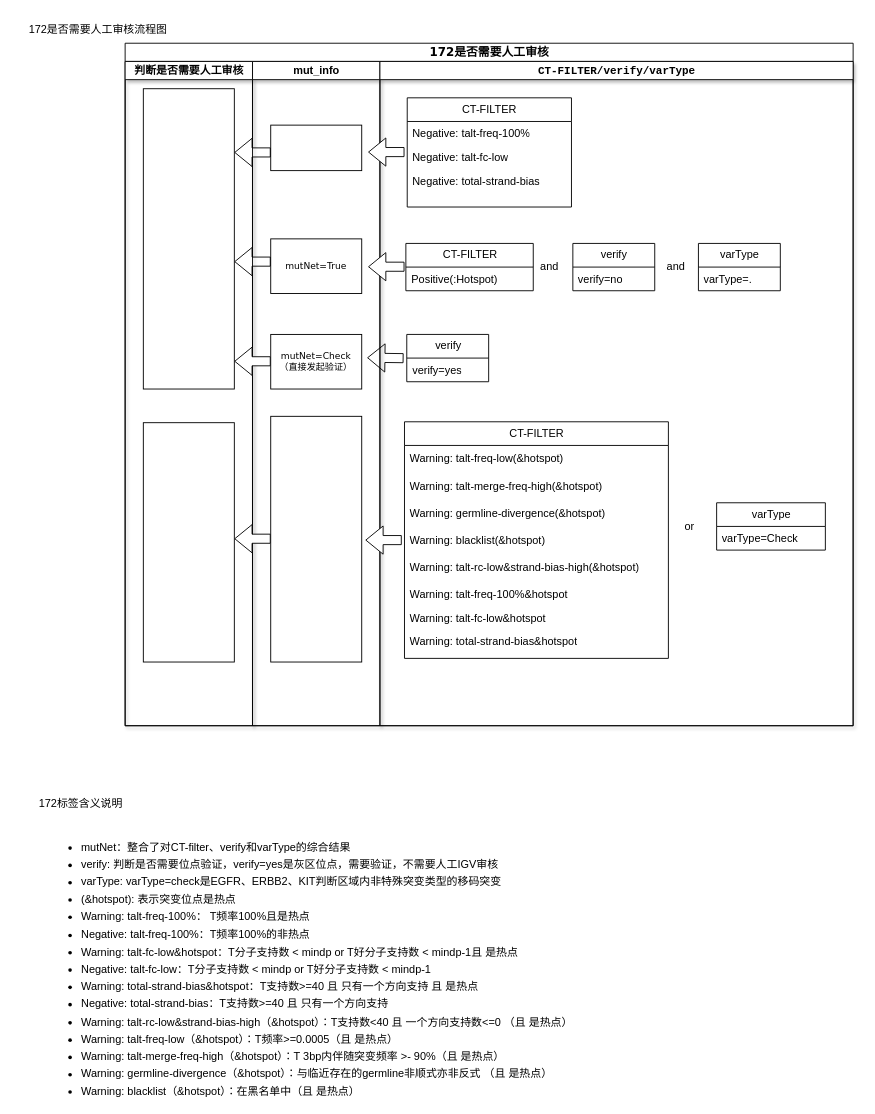
The diagram is 875 pixels wide and 1114 high, and some of its shapes have lost their labels. Here are the shapes that lost their labels. From the top down, the centre of each, then its label:
point (316, 147): mutNet=False (不在结果中展示)
point (188, 238): 不需要人工审核
point (188, 542): 需要人工审核
point (316, 538): mutNet=Check
